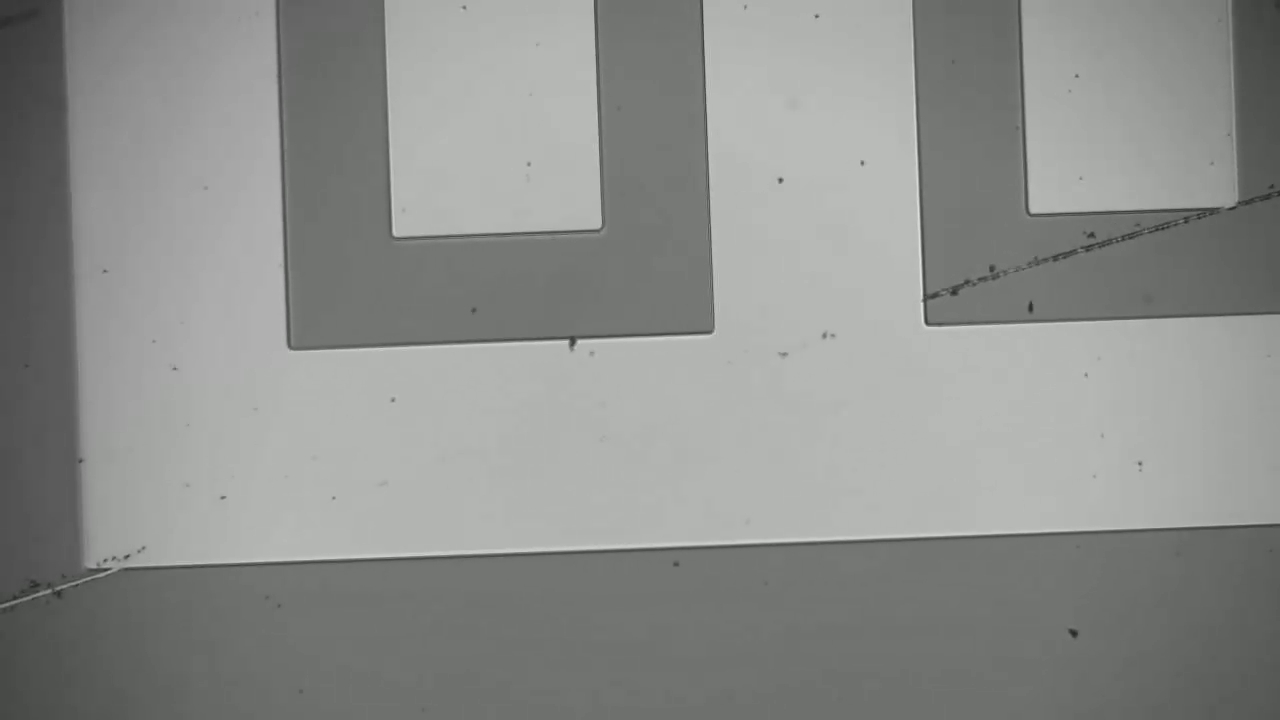scratch: (937, 191, 1275, 298), (4, 571, 118, 607)
